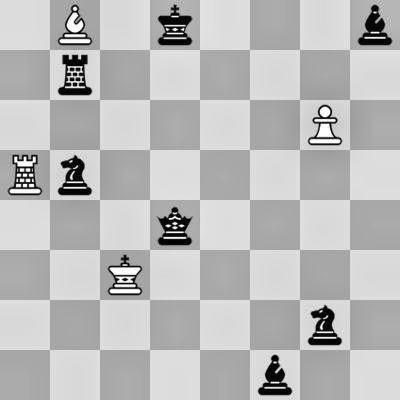black-bishop: (350, 0, 400, 50), (250, 350, 300, 400)
black-king: (150, 0, 200, 50)
black-knight: (50, 150, 100, 200), (300, 300, 350, 350)
black-queen: (150, 200, 200, 250)
black-rook: (50, 50, 100, 100)
white-bishop: (50, 0, 100, 50)
white-king: (100, 250, 150, 300)
white-pawn: (300, 100, 350, 150)
white-rook: (0, 150, 50, 200)
